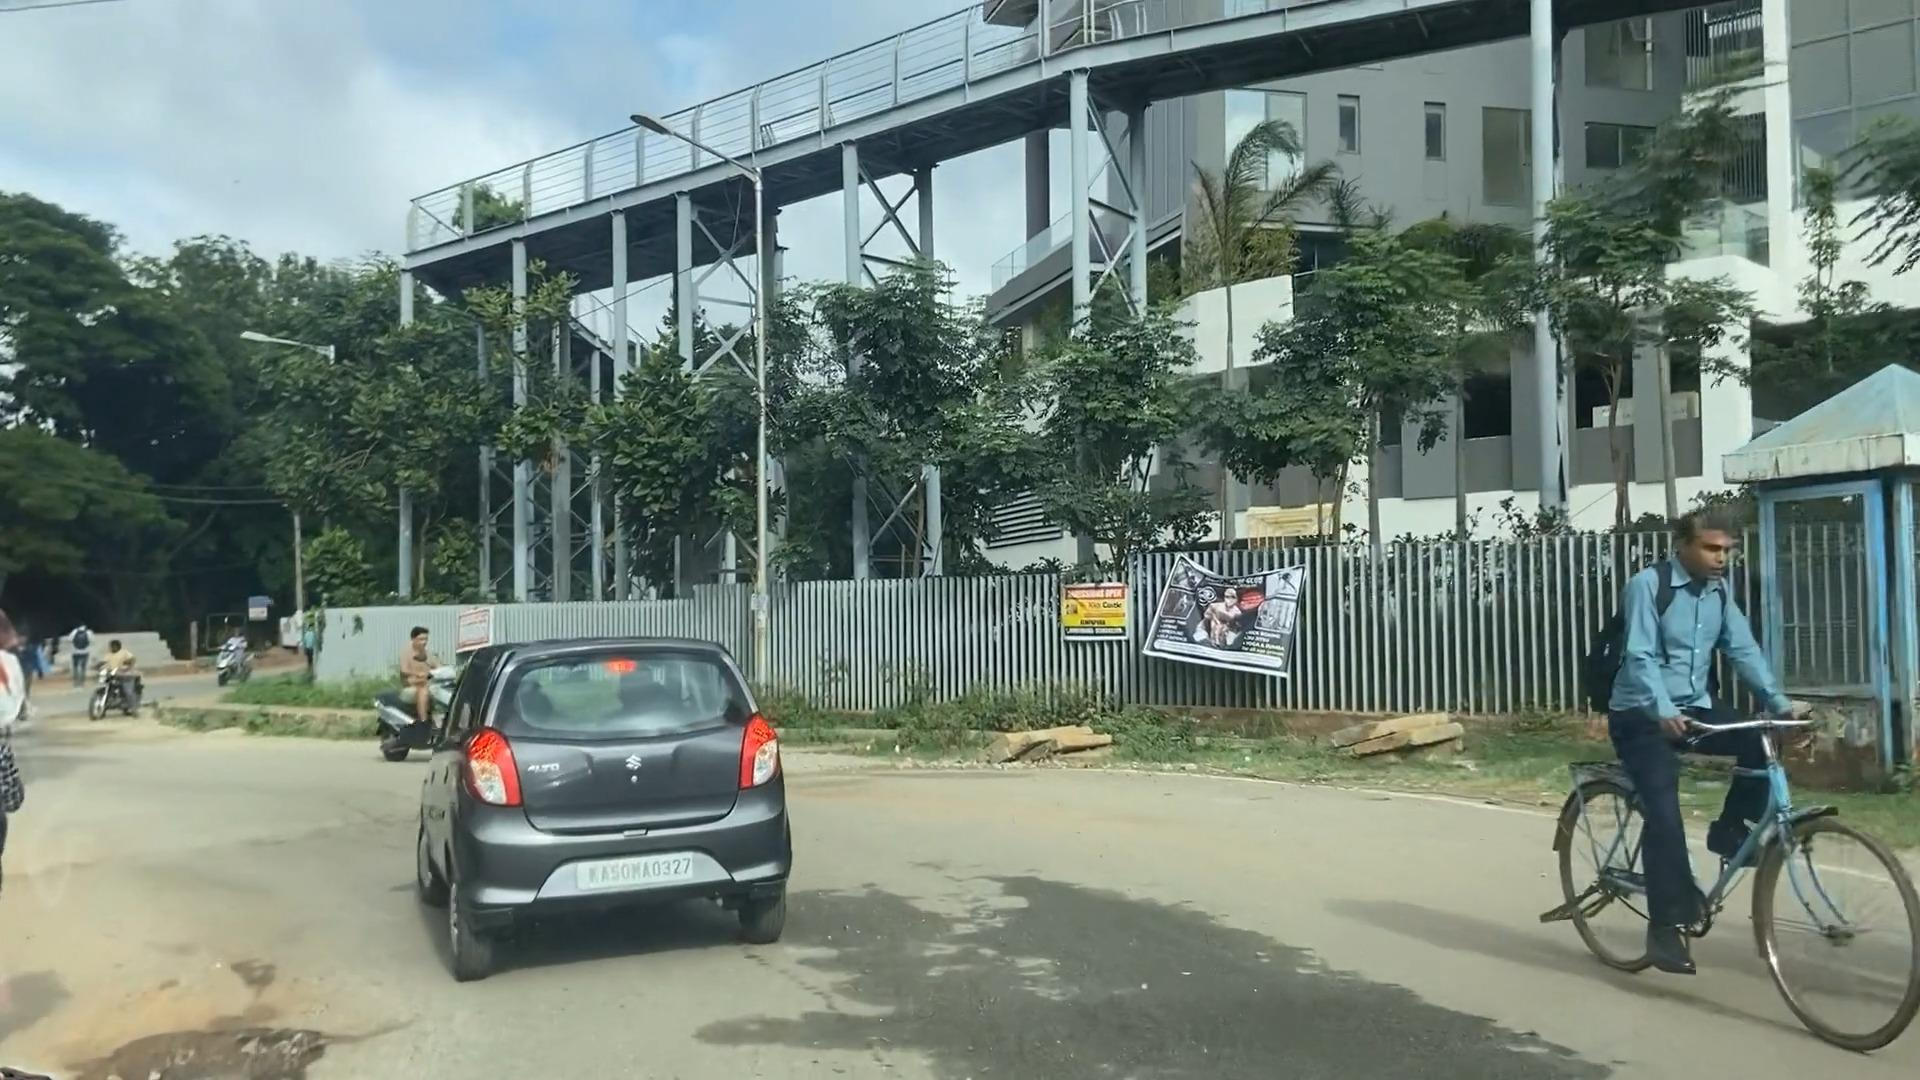LMV: (1563, 533, 1909, 1036), (421, 645, 779, 944)
RoadDamages: (50, 956, 418, 1080)
